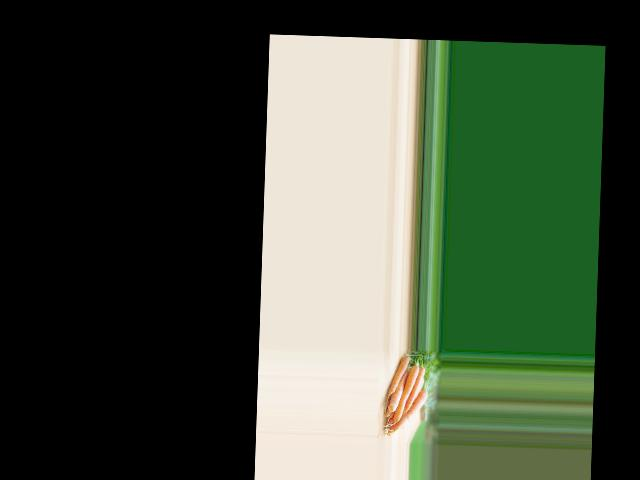carrot: (381, 353, 408, 399)
